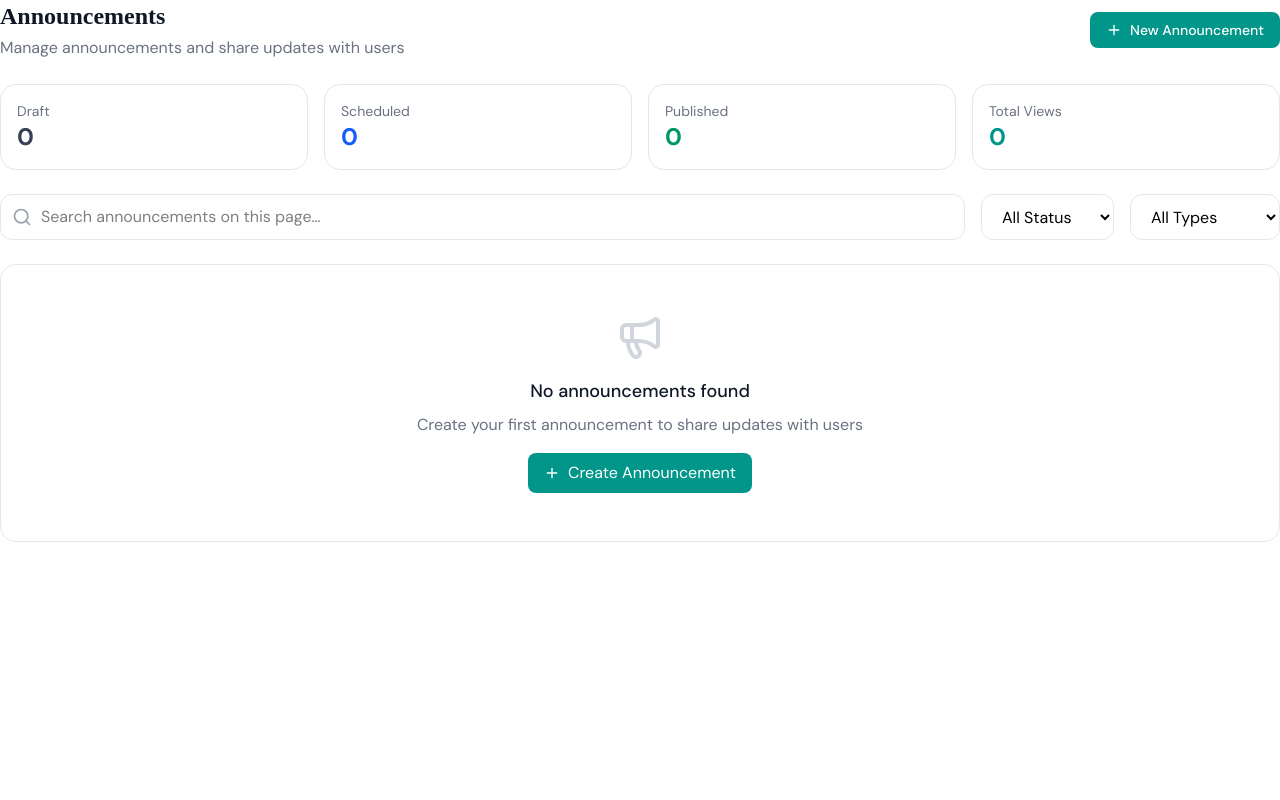
Scenario: FE-04 Announcements save validation › hostile actionUrl (foreign https) blocks the save
The image size is (1280, 800).
Click the button "New Announcement": (1185, 30) [1090,12,1279,48]
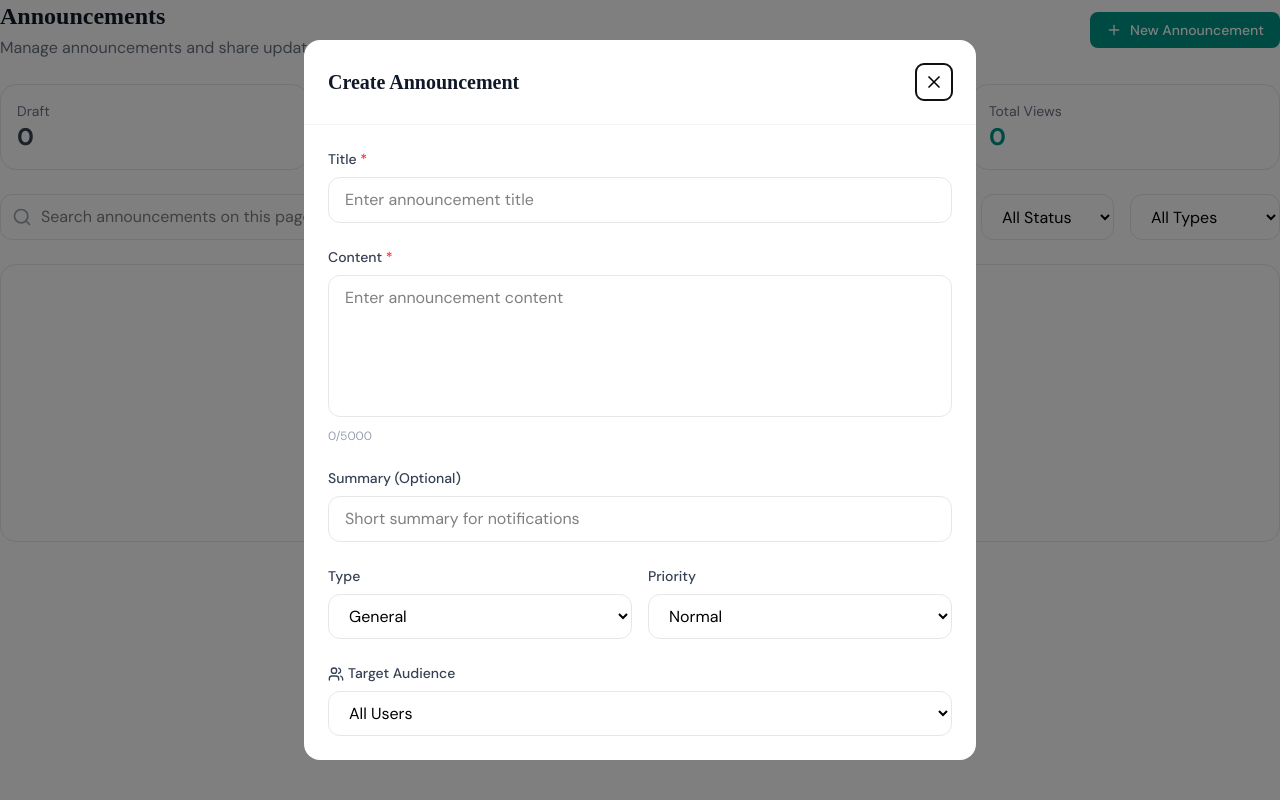
In the field with placeholder "Enter announcement title": (640, 200) [328,177,952,223], type "Sale"
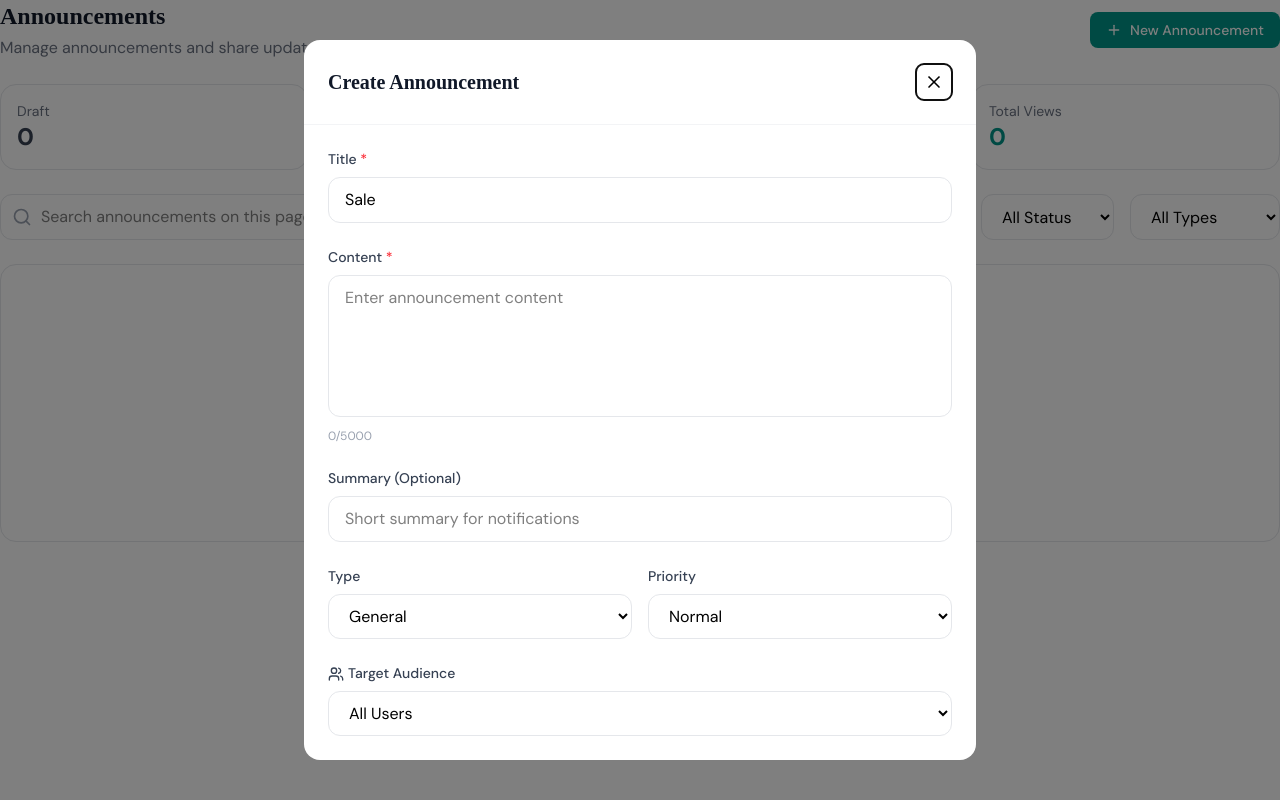
In the text box with placeholder "Enter announcement content": (640, 346) [328,275,952,417], type "Big sale this week"
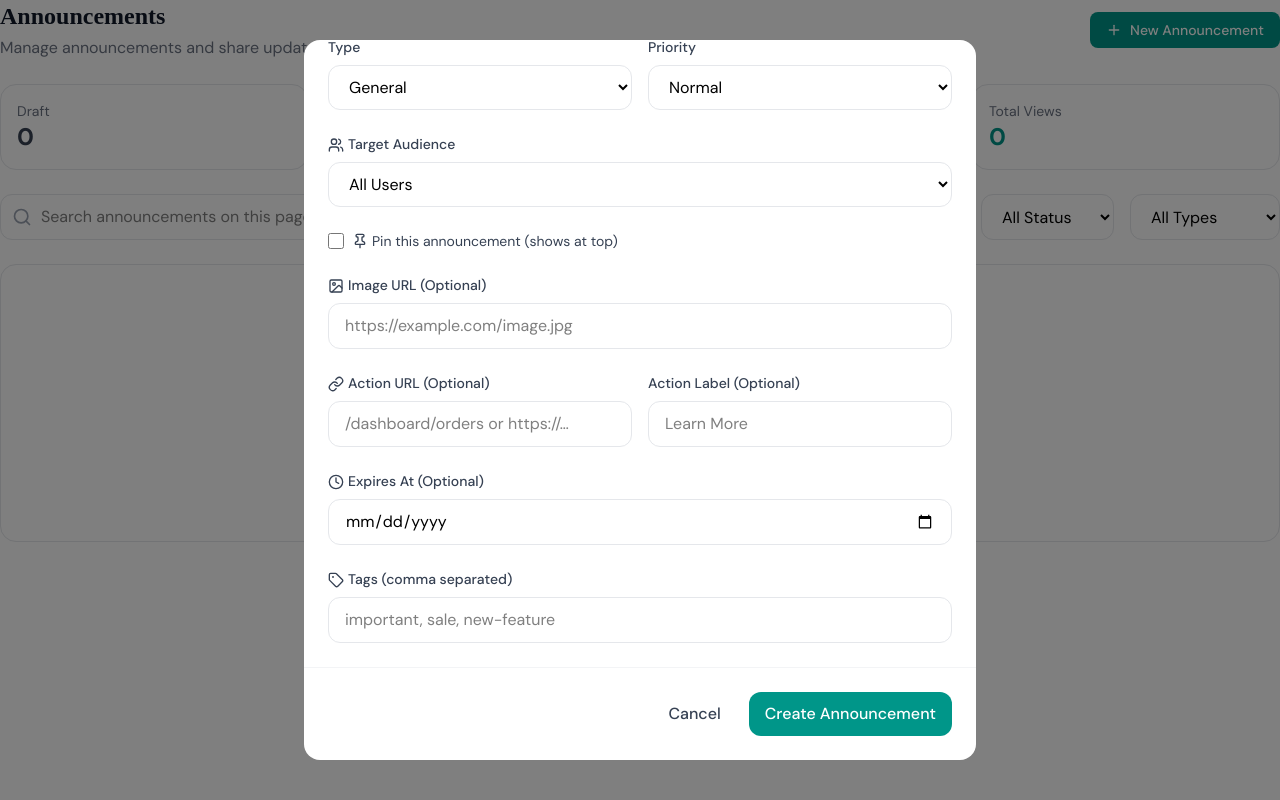
In the field with placeholder "/dashboard/orders or https://…": (480, 424) [328,401,632,447], type "https://evil.com/promo"
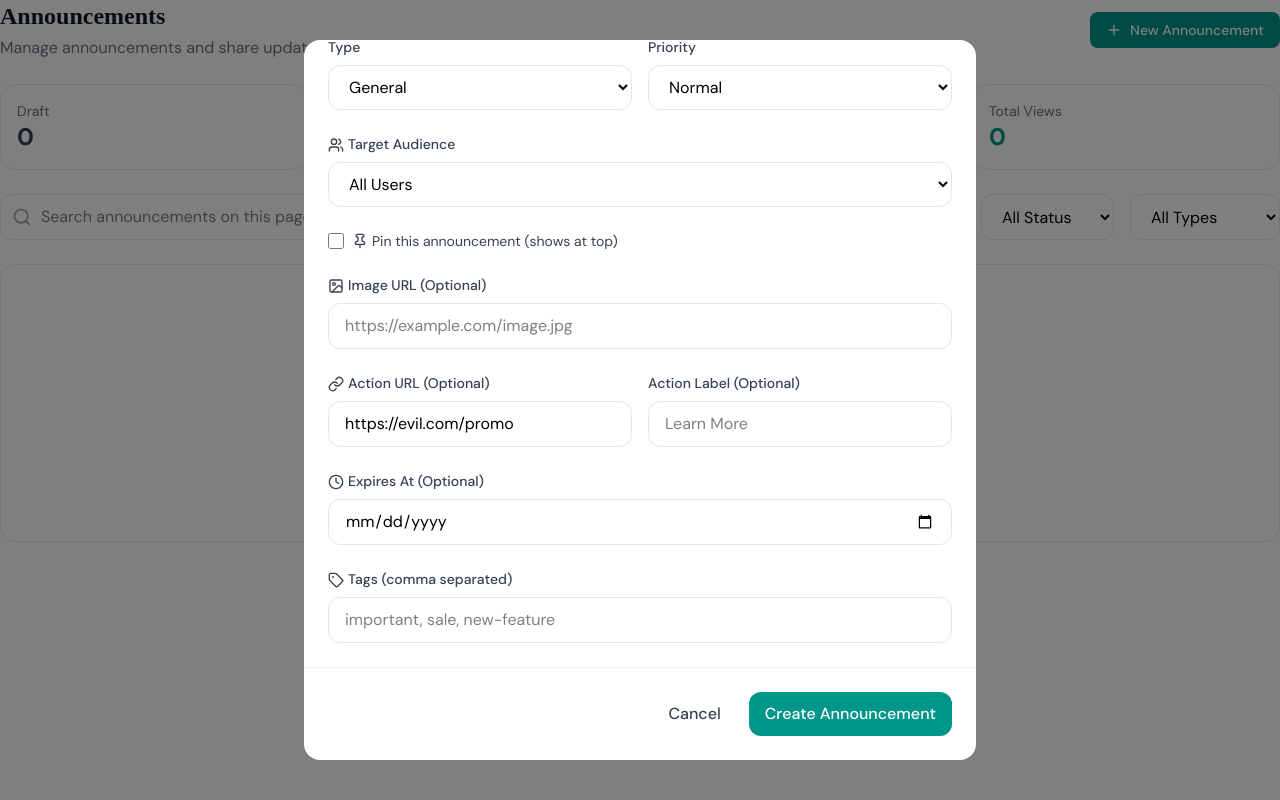
Click the button "Create Announcement": (850, 714) [749,692,952,736]
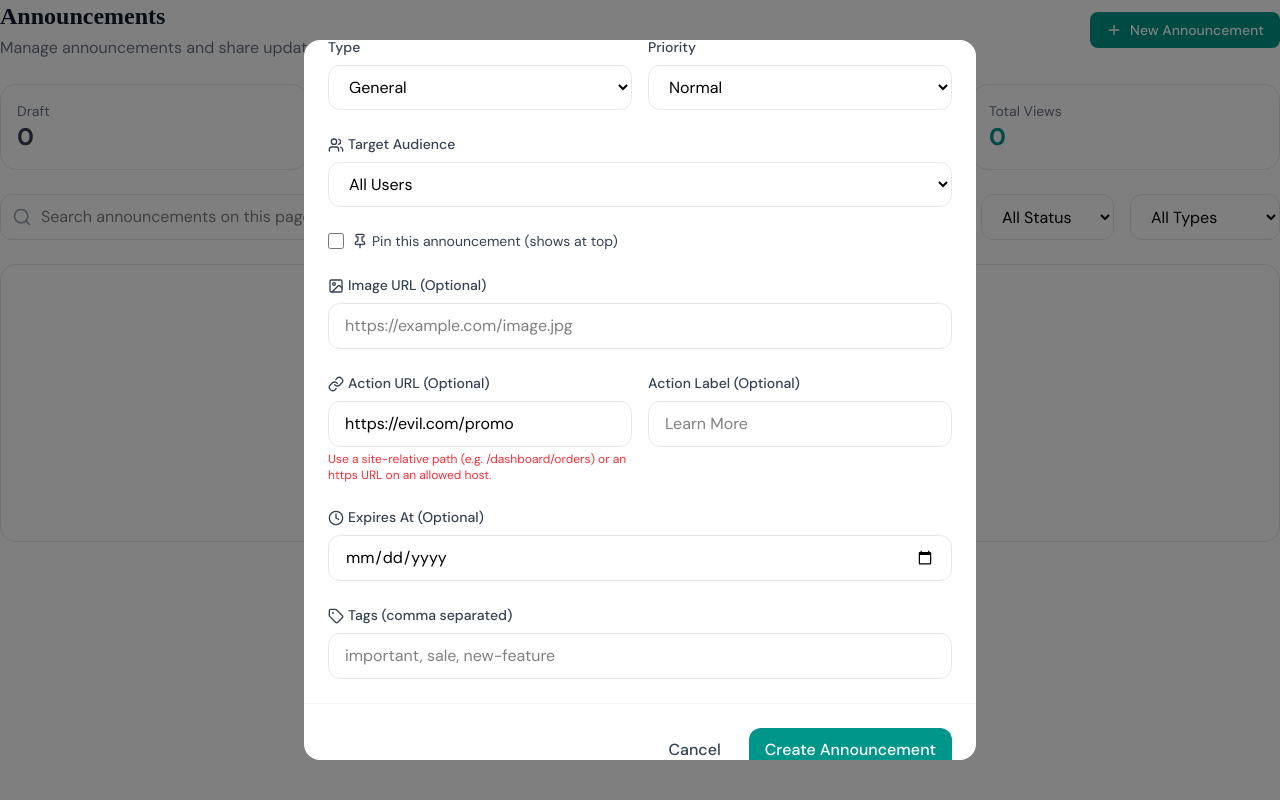
Now the message is shown, box [328,451,632,483]
